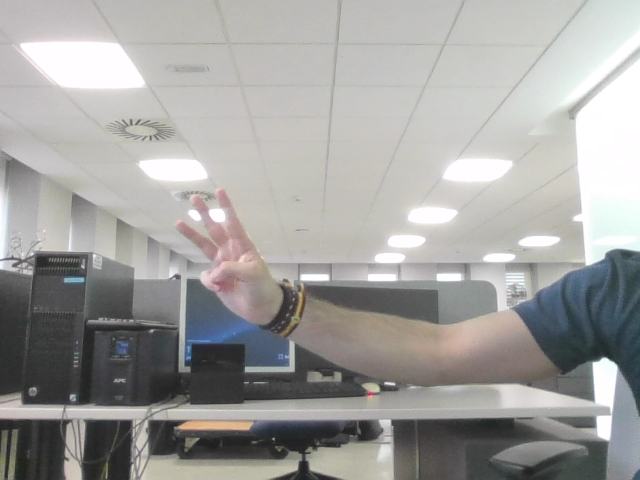3Dedos: (185, 198, 258, 285)
